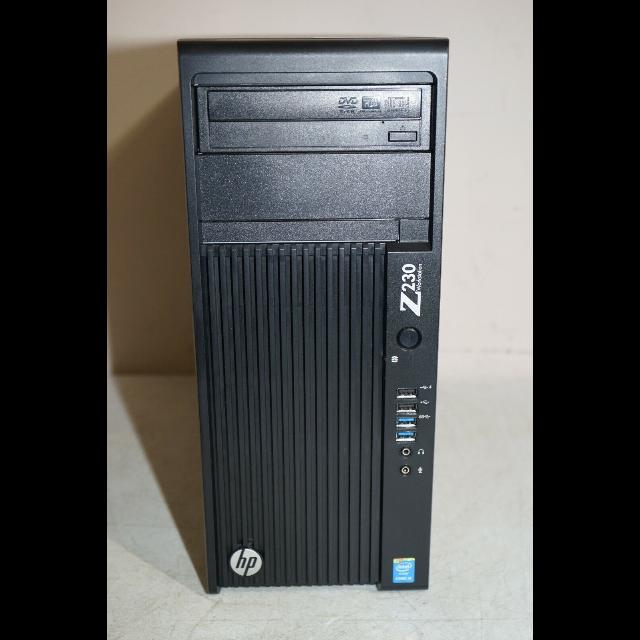Desktop-PC: (175, 35, 451, 599)
